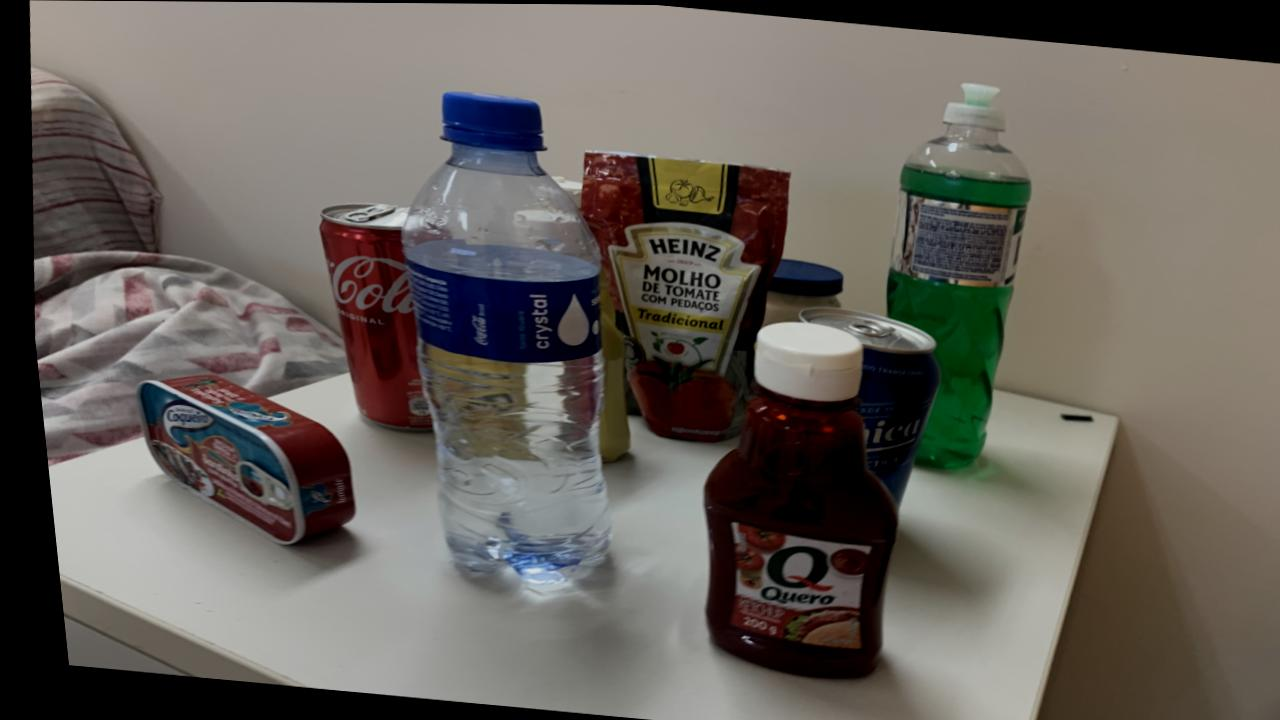Coke-Drinks: (314, 202, 423, 431)
Detergent-Cleanup_Items: (880, 83, 1027, 467)
Ketchup-Pantry_Items: (693, 321, 884, 677)
Mayonnaise-Pantry_Items: (755, 258, 838, 325)
Mustard-Pantry_Items: (589, 312, 621, 461)
Tomato_Sauce-Pantry_Items: (577, 151, 786, 441)
Tonic-Drinks: (793, 306, 933, 501)
Tuna_Can-Pantry_Items: (130, 374, 342, 544)
Water_Bottle-Drinks: (397, 92, 598, 585)
